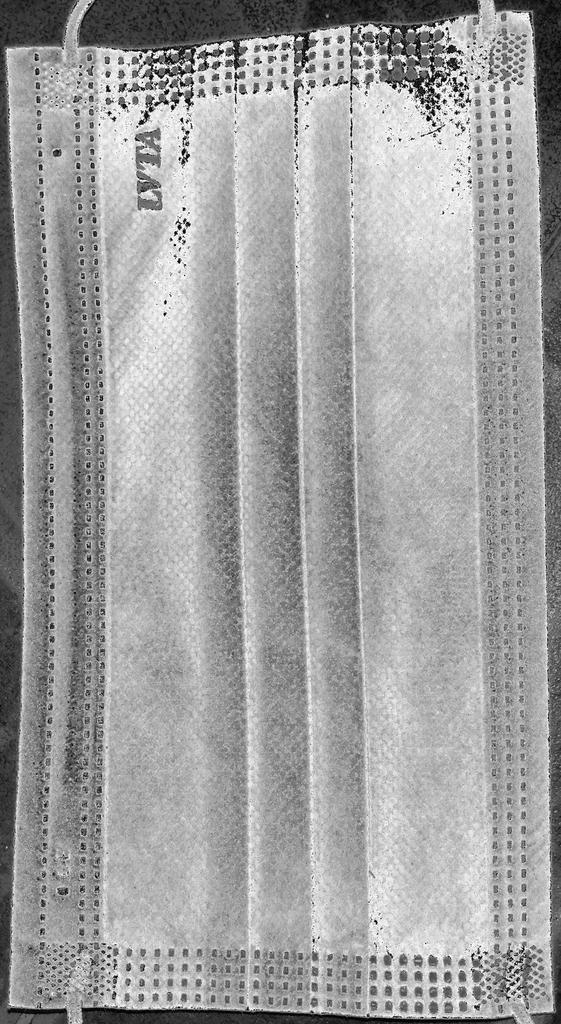High GSM: (4, 7, 558, 1021)
